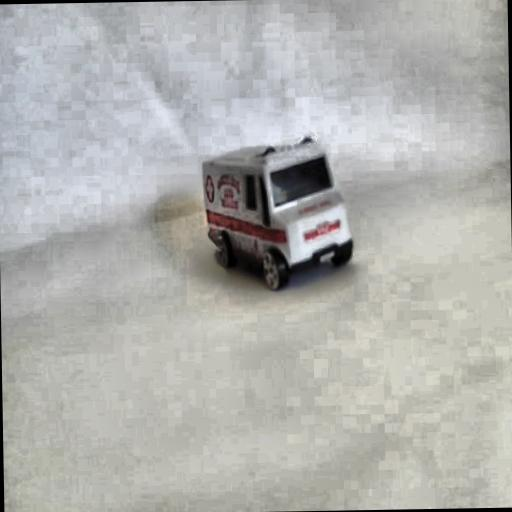ambulance: (201, 134, 354, 292)
